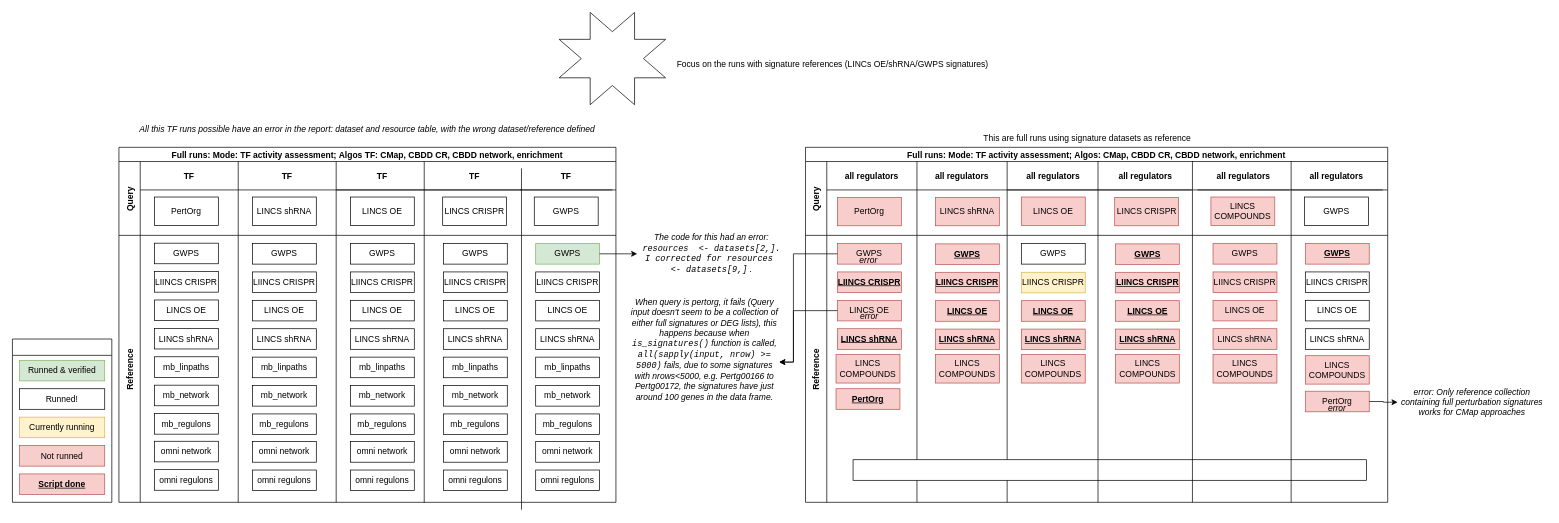
The diagram is 1559 pixels wide and 523 high, and some of its shapes have lost their labels. The box of each missing label's shape, as (x1, y1, x2, y2) in pixels:
Alex will run ref network things little by little: (852, 459, 1366, 480)
ATENTION gwps_signatures: (558, 12, 666, 105)
Legend: (12, 338, 112, 502)
